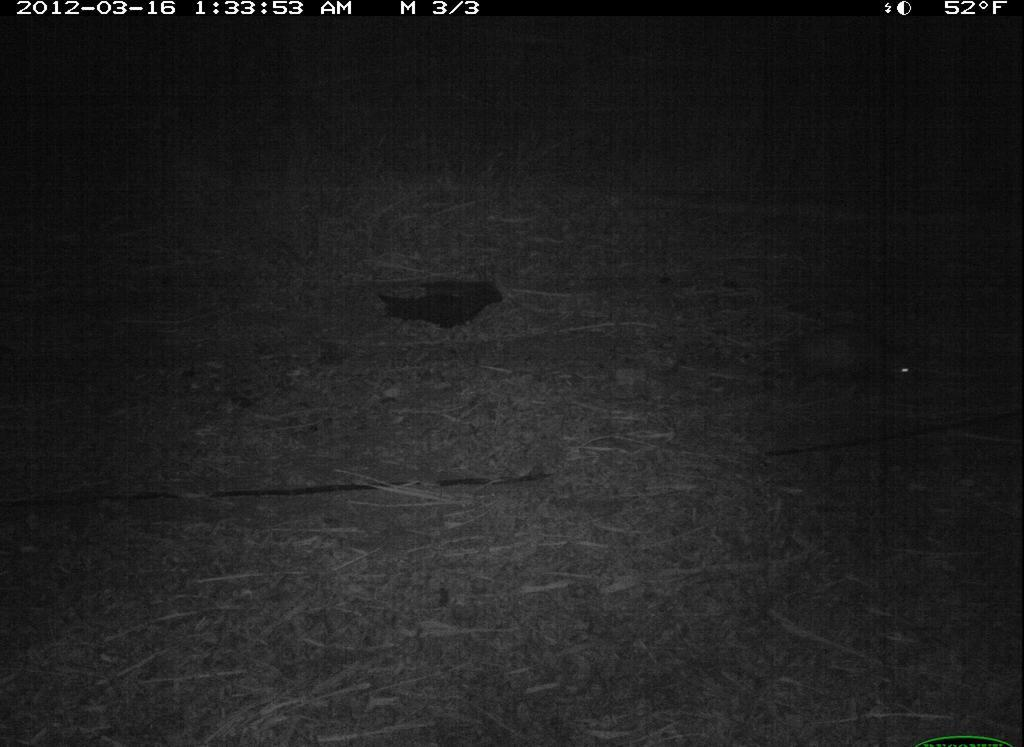opossum: (772, 314, 943, 401)
